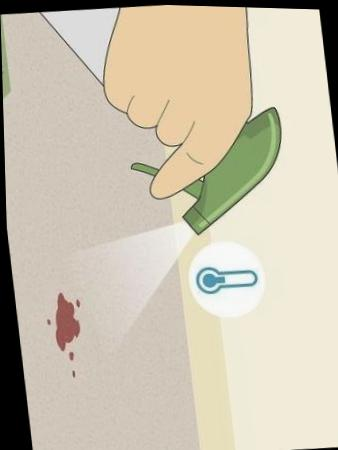Fire: (52, 292, 77, 352)
